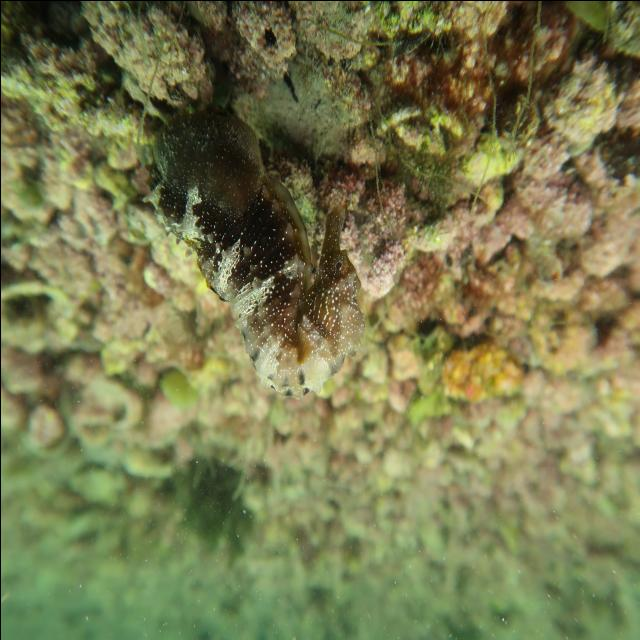Guttu: (297, 204, 373, 378)
